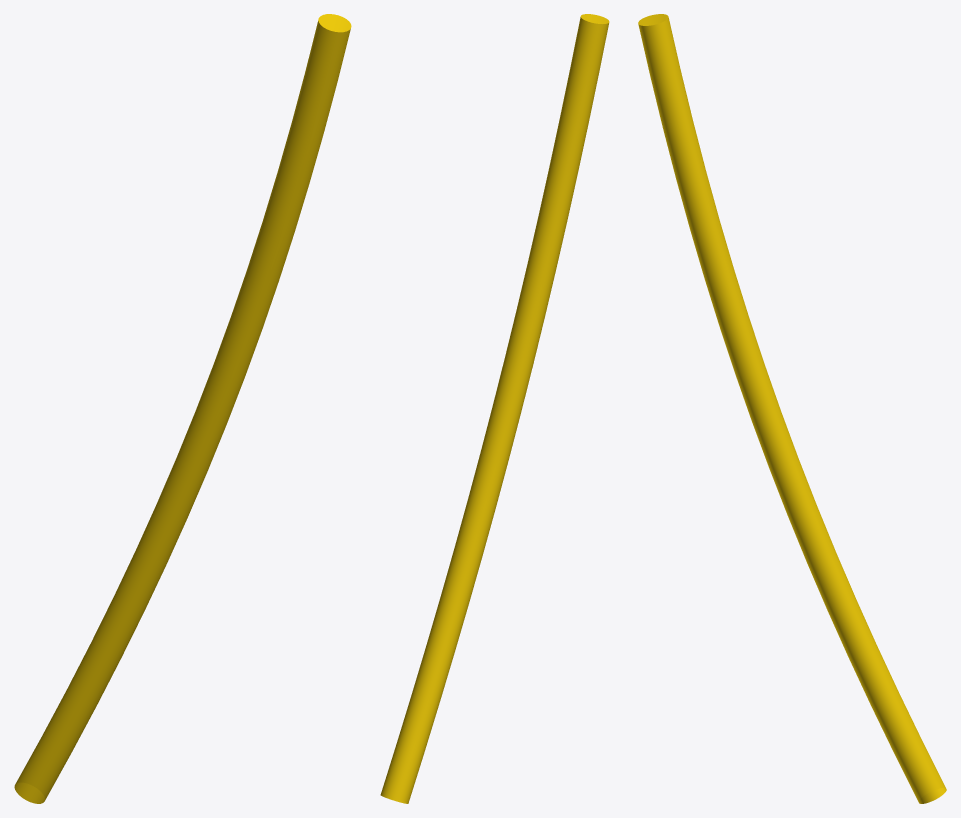
File: Event_421364160_track_13.fbx
3 views of the same model, side by side, from view 1: azimuth 90°, elevation 25°; view 2: azimuth 150°, elevation 25°; view 3: azimuth 270°, elevation 25° (orthographic). The views are drawn at different scales.
Visible parts, largest first — view 1: Model; view 2: Model; view 3: Model.
Part boxes in pixels (bbox=[...]): Model: bbox=[14, 14, 351, 803]; Model: bbox=[380, 14, 609, 803]; Model: bbox=[638, 14, 946, 803].
Bounding box in the file's own units: 0.1472 × 1.06 × 0.3966.
